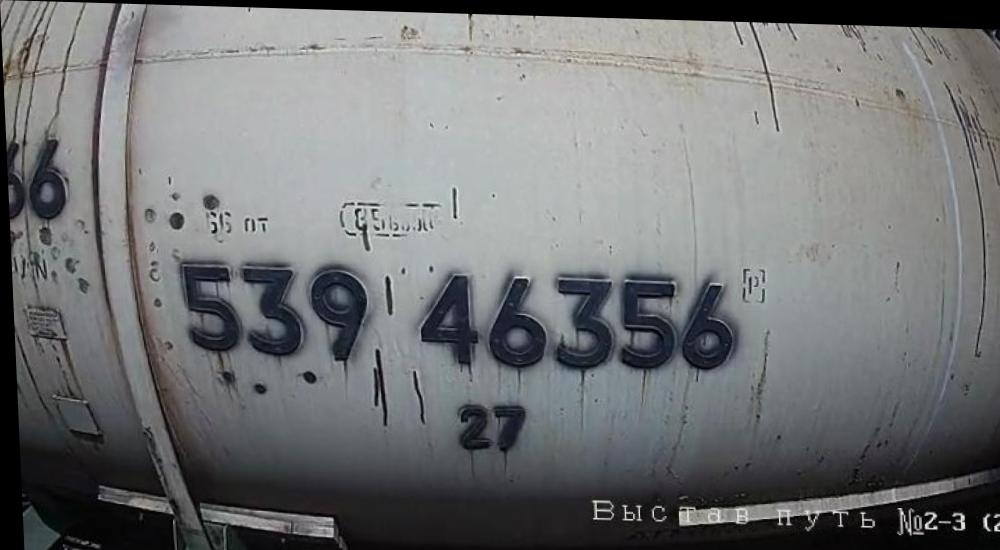Wagon-number: (170, 251, 745, 377)
